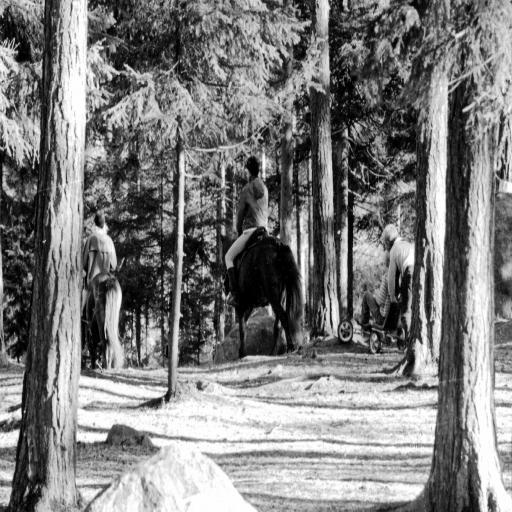horse: (218, 232, 304, 358), (82, 268, 126, 370)
